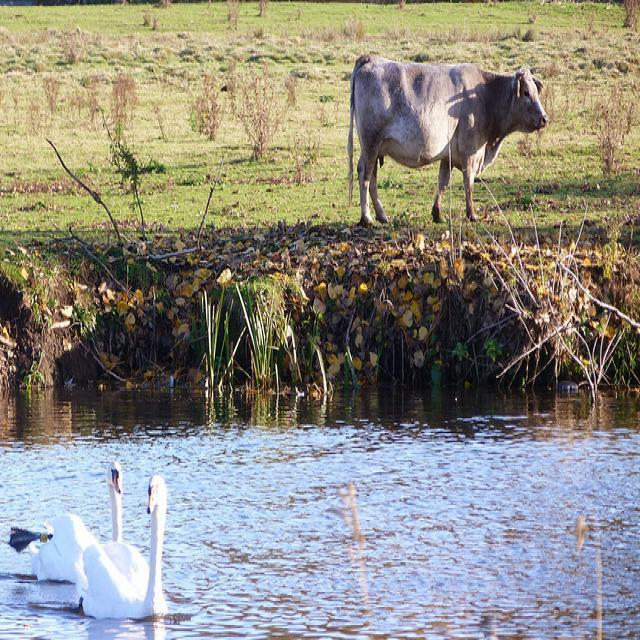cow: (347, 51, 547, 222)
